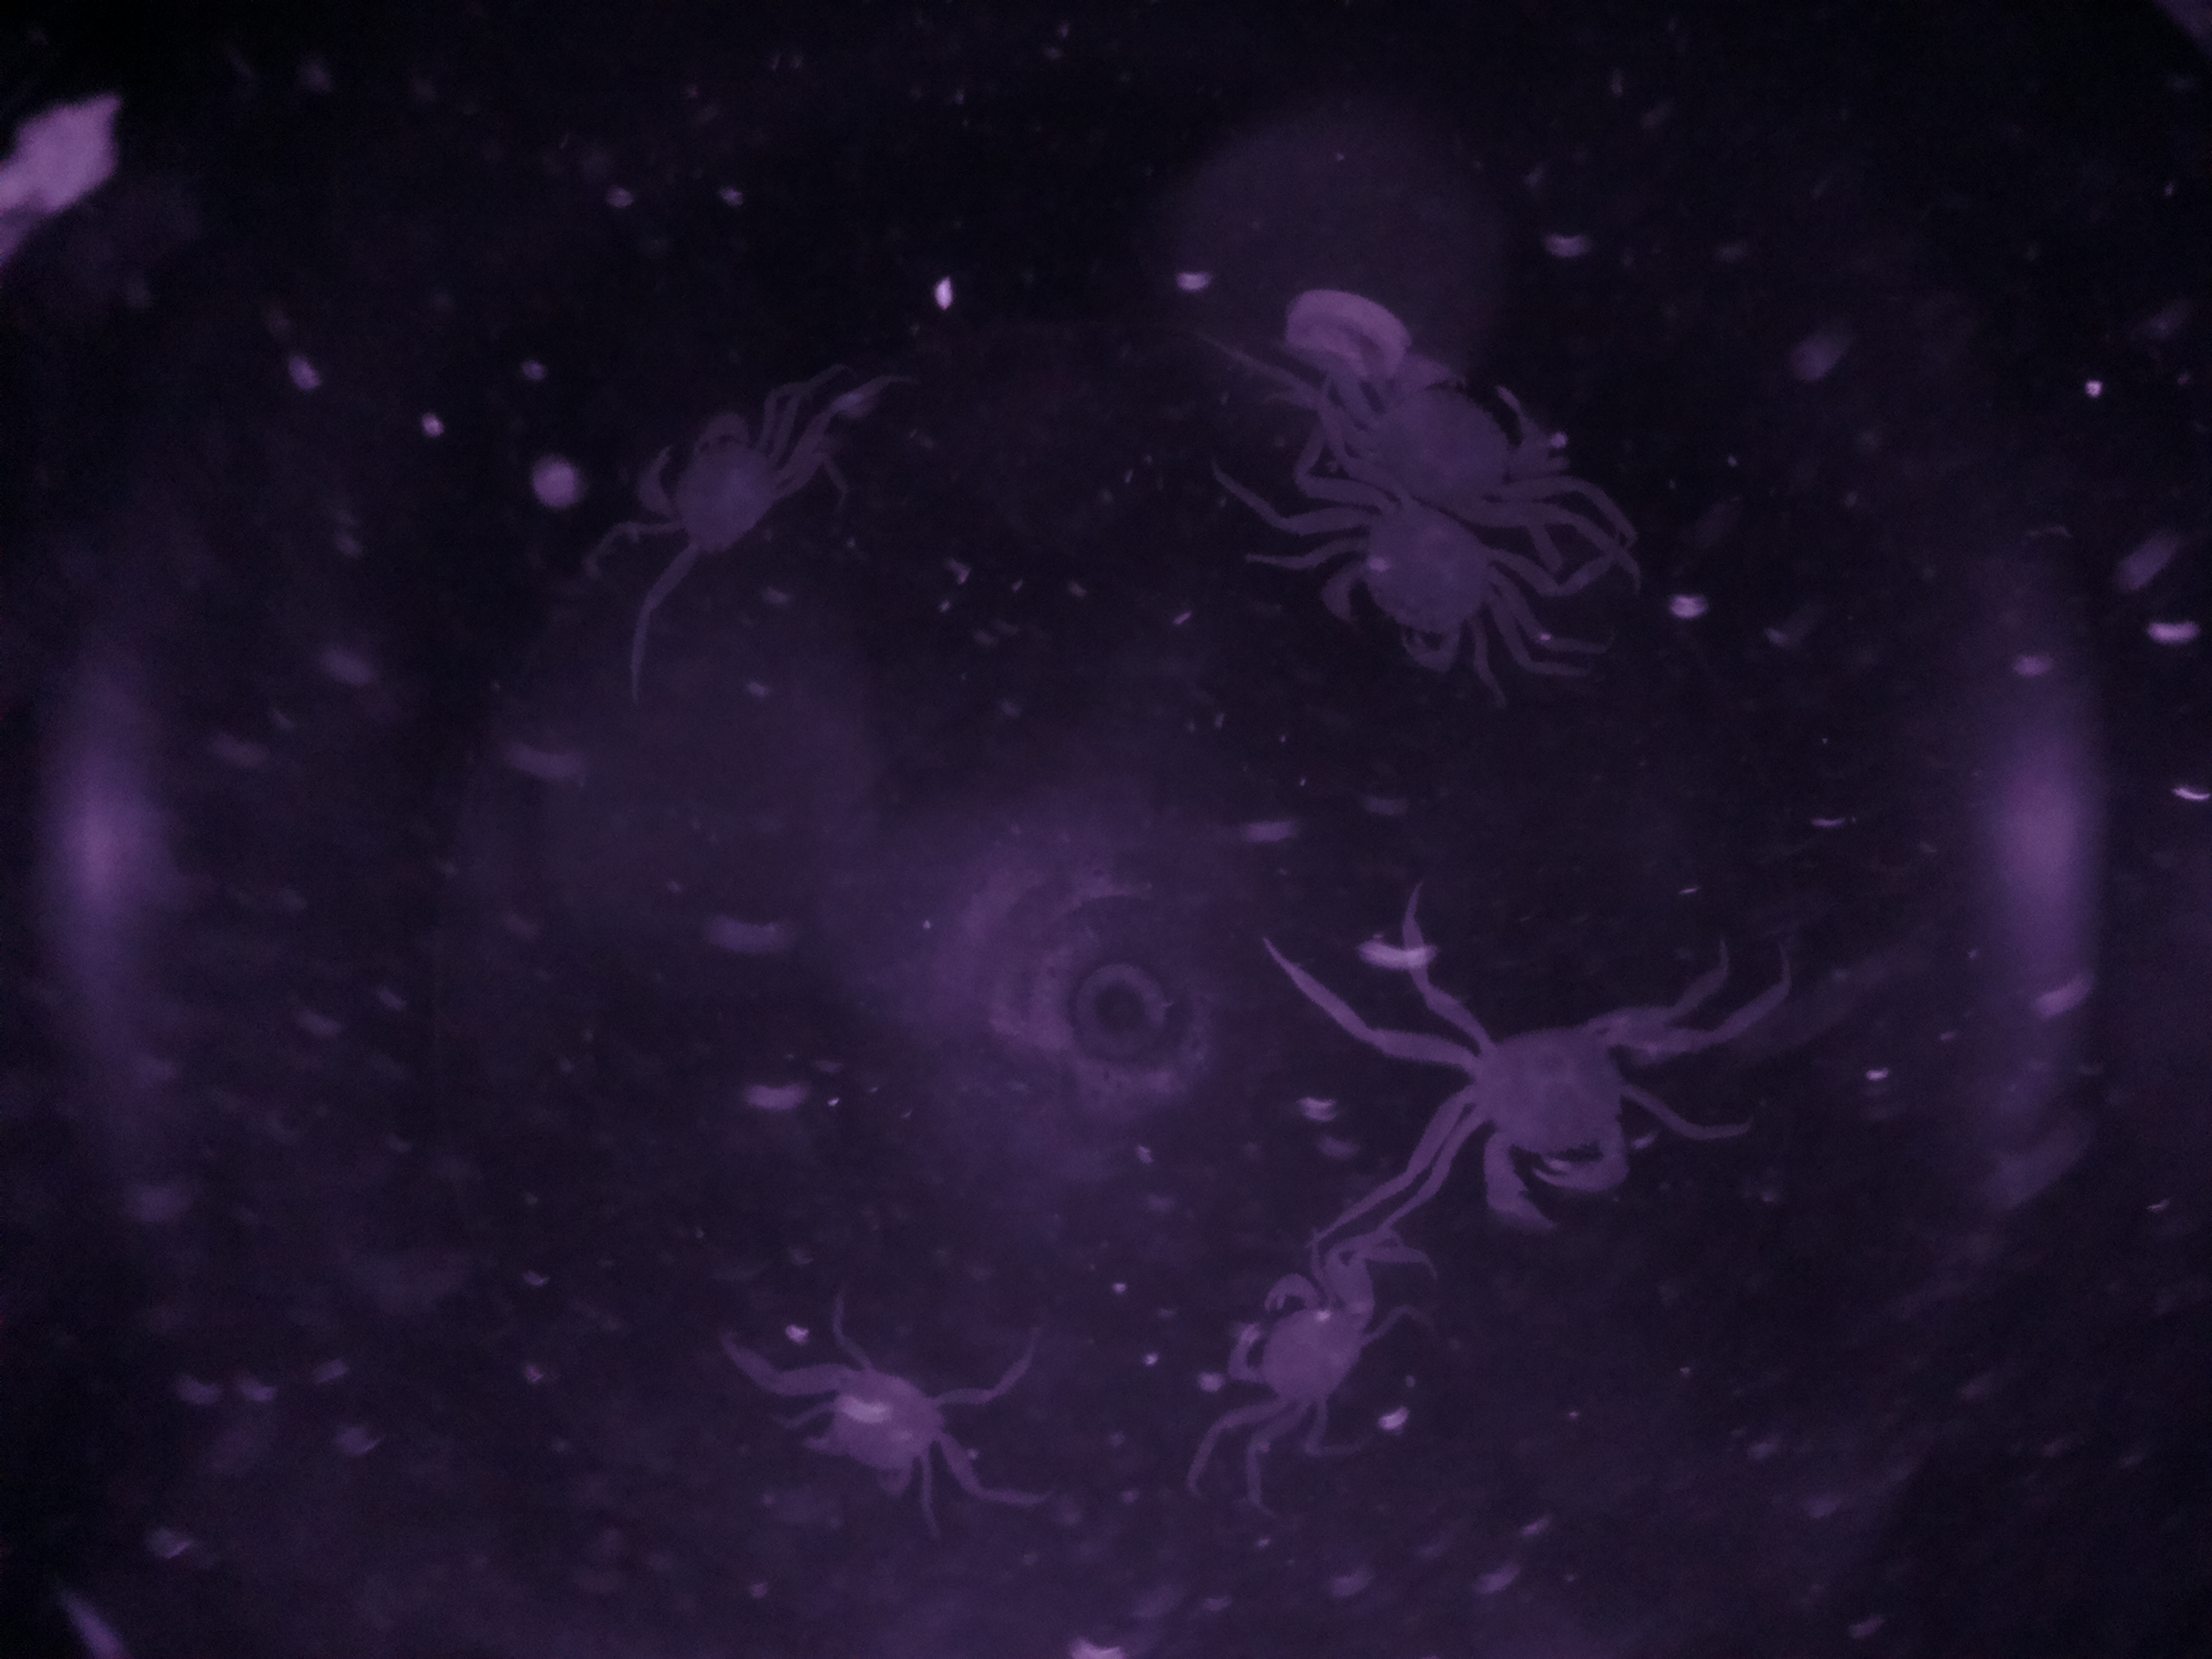Crab: (1406, 957, 1669, 1251), (1291, 467, 1564, 666), (1172, 1230, 1407, 1457)
